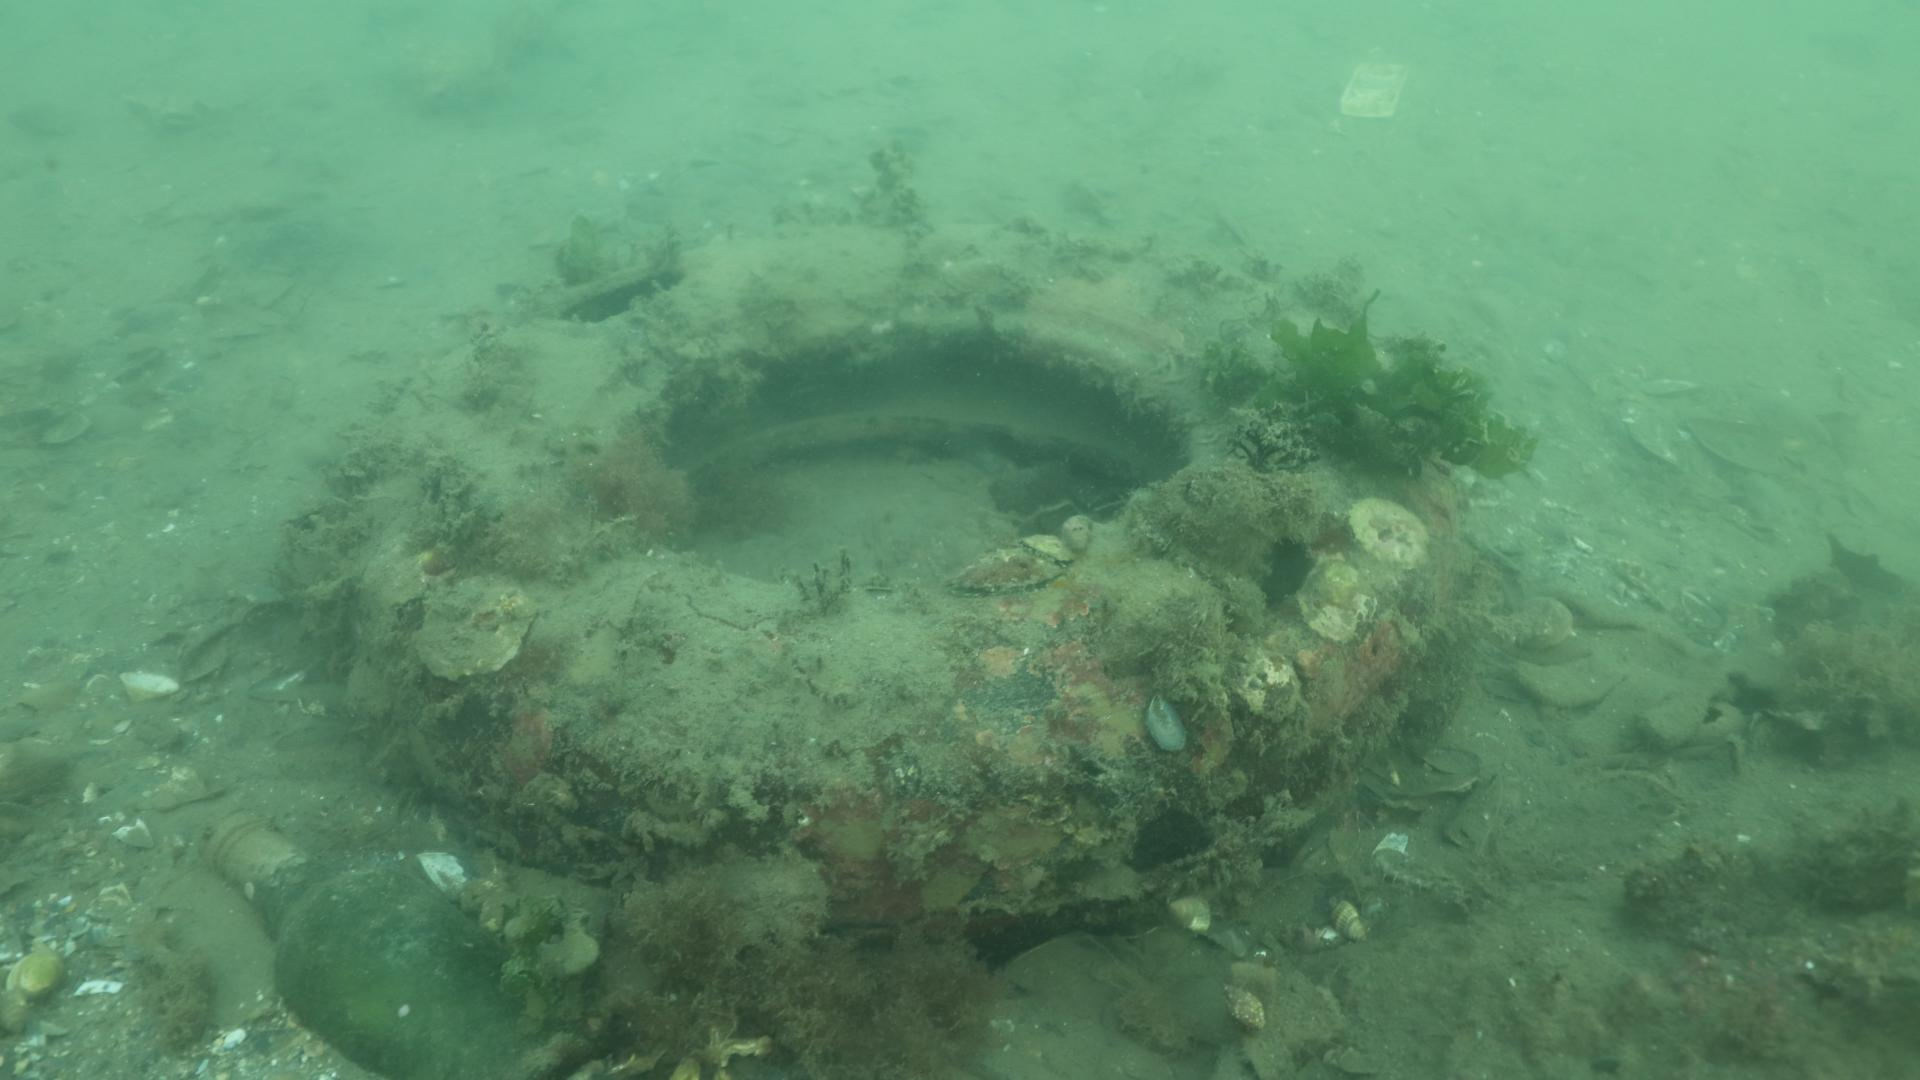tire: (342, 222, 1455, 939)
